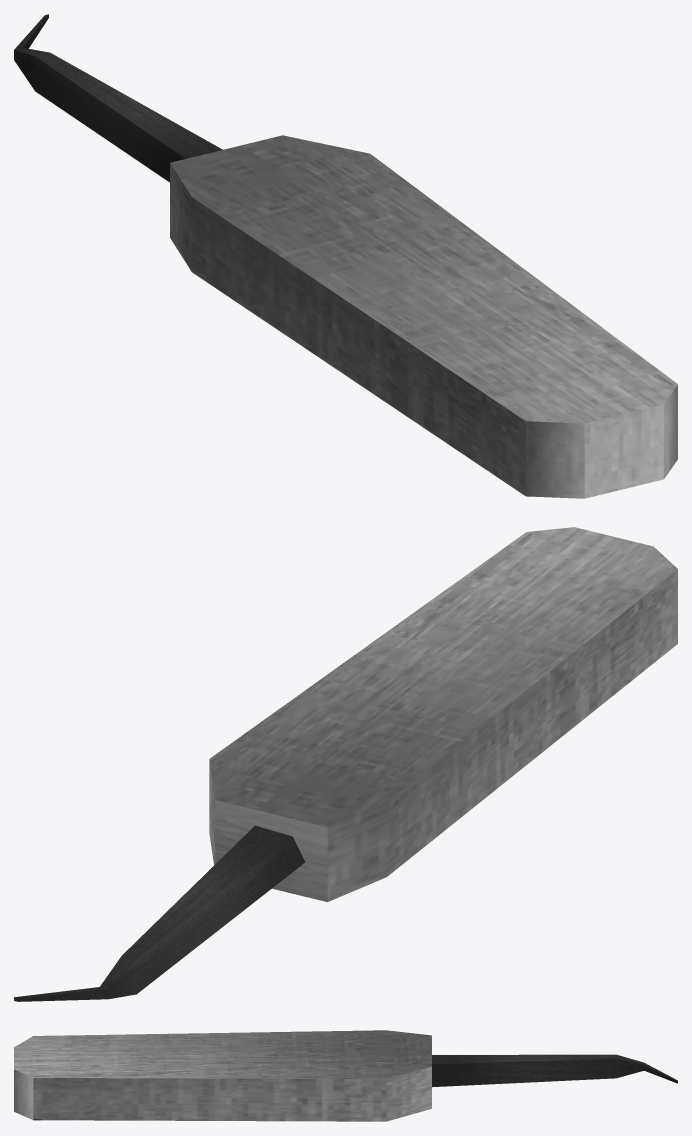
The model's file is Lock_Pick.fbx.
3 views of the same model, one above another, from view 1: azimuth 30°, elevation 25°; view 2: azimuth 150°, elevation 25°; view 3: azimuth 270°, elevation 25° (orthographic). The views are drawn at different scales.
Visible parts, largest first — view 1: pCube3; view 2: pCube3; view 3: pCube3.
Boxes of the visible parts, bbox=[...] form: pCube3: bbox=[14, 14, 677, 498]; pCube3: bbox=[14, 527, 677, 1001]; pCube3: bbox=[14, 1030, 677, 1121].
Size of the model in its own units: 0.3095 by 0.1248 by 1.77.
